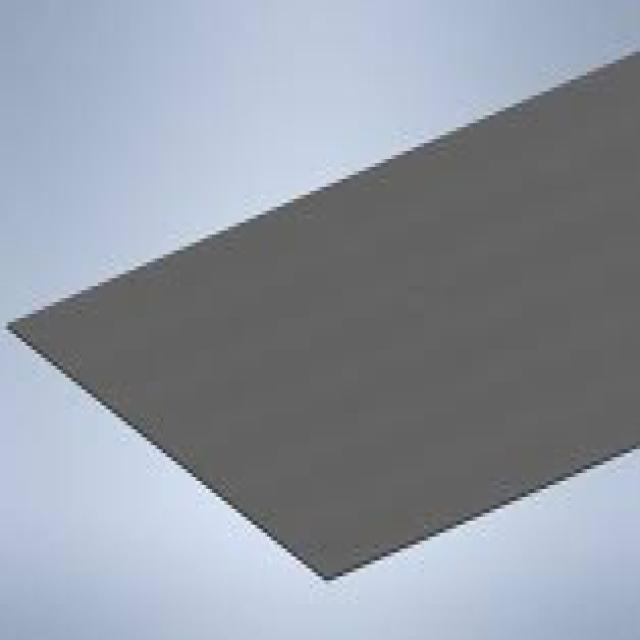Dry: (8, 56, 640, 557)
